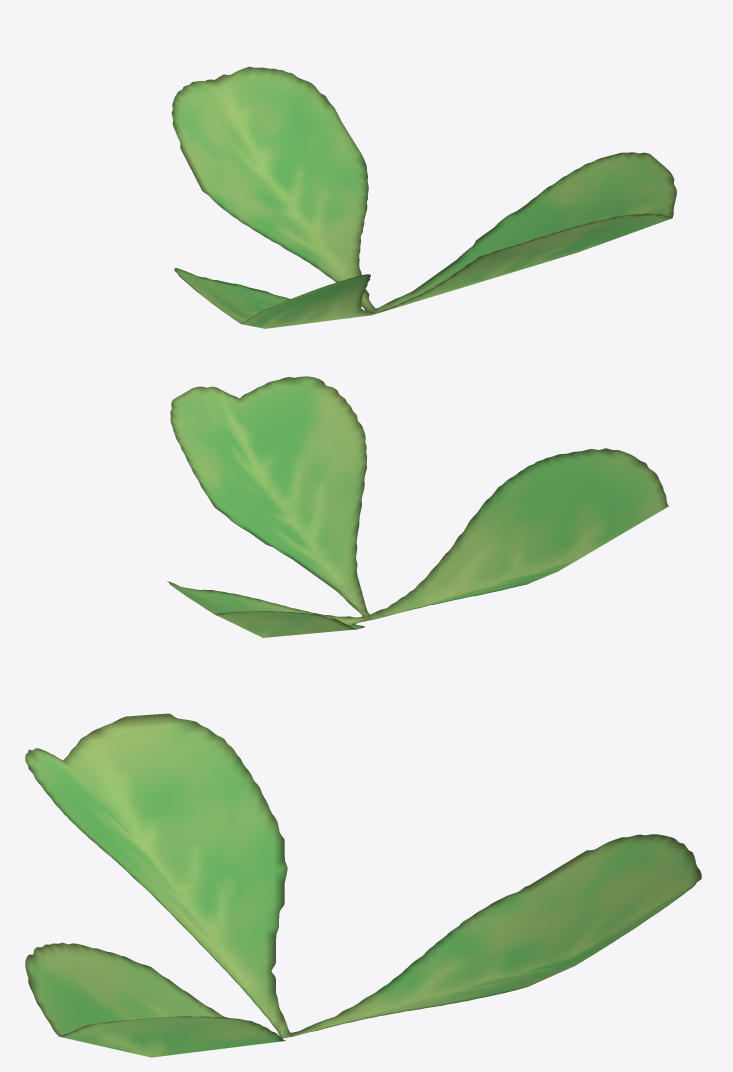
The model's file is LeafSetG_4.fbx.
3 views of the same model, one above another, from view 1: azimuth 30°, elevation 25°; view 2: azimuth 150°, elevation 25°; view 3: azimuth 270°, elevation 25° (orthographic). The views are drawn at different scales.
Visible parts, largest first — view 1: LeafSetG_4; view 2: LeafSetG_4; view 3: LeafSetG_4.
Part boxes in pixels (x1,y1,x2,y2): LeafSetG_4: [171, 66, 676, 328]; LeafSetG_4: [167, 376, 668, 637]; LeafSetG_4: [25, 713, 701, 1057].
Bounding box in the file's own units: 0.211 × 0.0654 × 0.1972.
